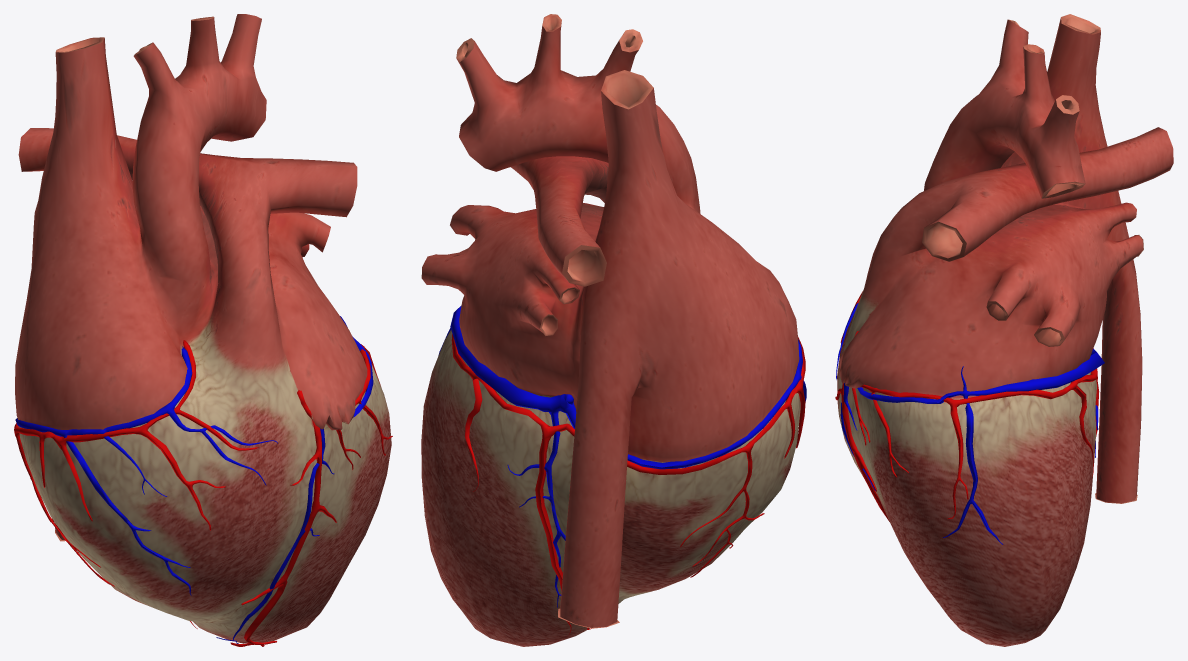
Rendered from AR_Heart_ext_Geo.fbx.
3 views of the same model, side by side, from view 1: azimuth 30°, elevation 25°; view 2: azimuth 150°, elevation 25°; view 3: azimuth 270°, elevation 25° (orthographic). The views are drawn at different scales.
Visible parts, largest first — view 1: Heart_ext_geo, Heart_ext_vessel; view 2: Heart_ext_geo, Heart_ext_vessel; view 3: Heart_ext_geo, Heart_ext_vessel.
Part boxes in pixels (x1=…): Heart_ext_geo: x1=15, y1=14, x2=391, y2=643; Heart_ext_vessel: x1=14, y1=316, x2=392, y2=646; Heart_ext_geo: x1=421, y1=14, x2=800, y2=646; Heart_ext_vessel: x1=438, y1=305, x2=806, y2=635; Heart_ext_geo: x1=837, y1=14, x2=1173, y2=646; Heart_ext_vessel: x1=835, y1=291, x2=1104, y2=544.
Size of the model in its own units: 861 by 1492 by 795.
